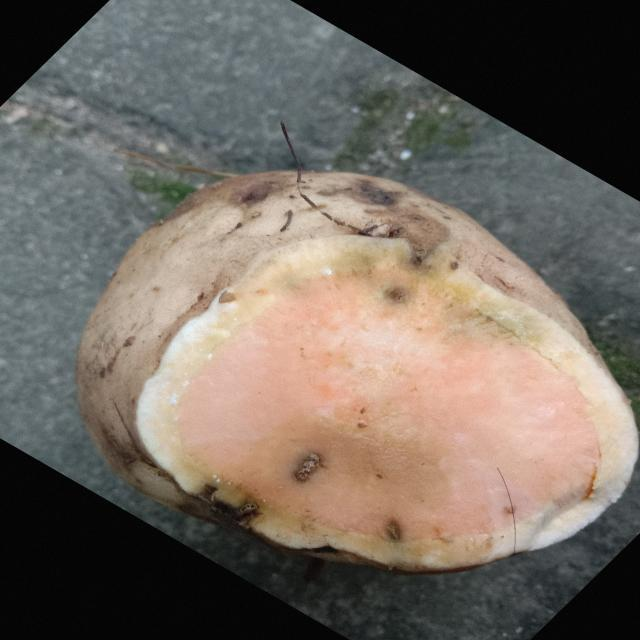Sick Sweet Potato_Tuber Rot: (137, 235, 637, 572)
